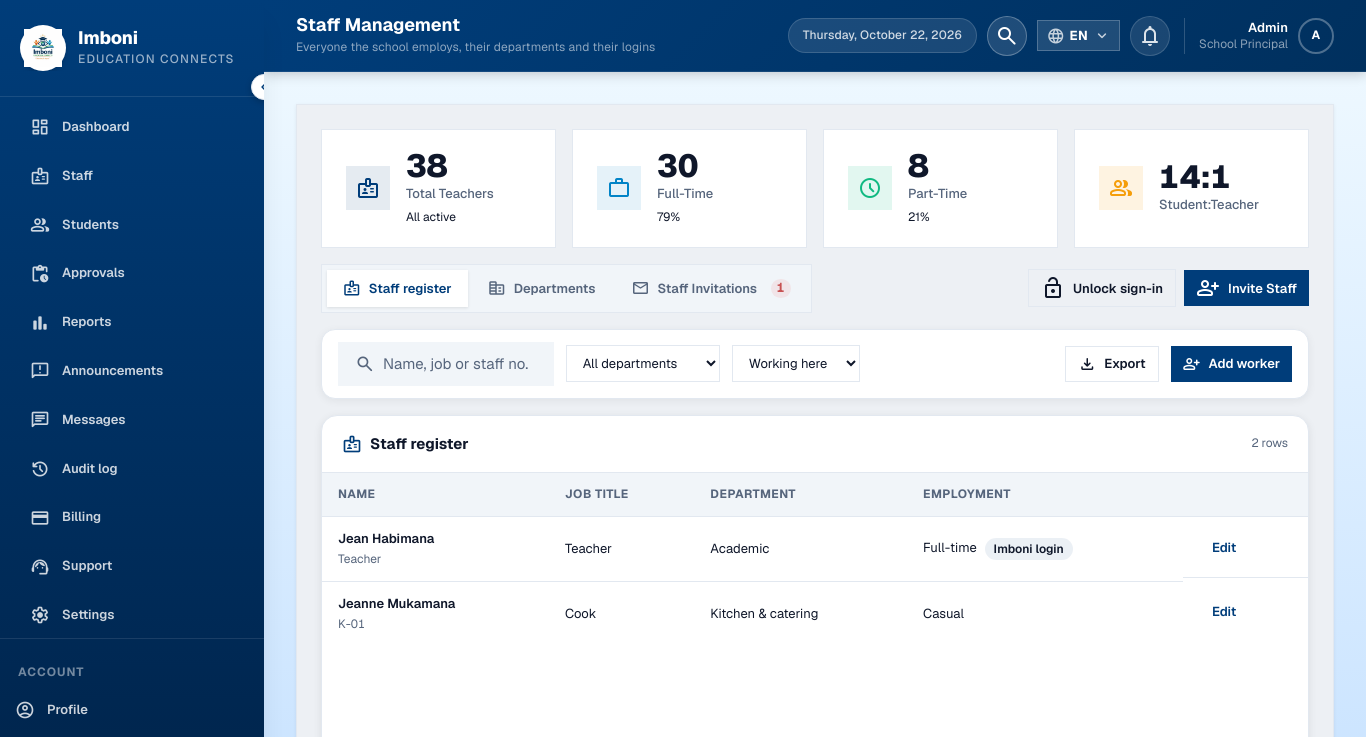
Test: AdminStaff › switches to the invitations tab and shows the pending badge count
The image size is (1366, 737).
Check: the text "Jean Habimana" is shown, box [338, 530, 434, 547]
Click the tab "Staff Invitations 1": (711,288) [615, 270, 807, 307]
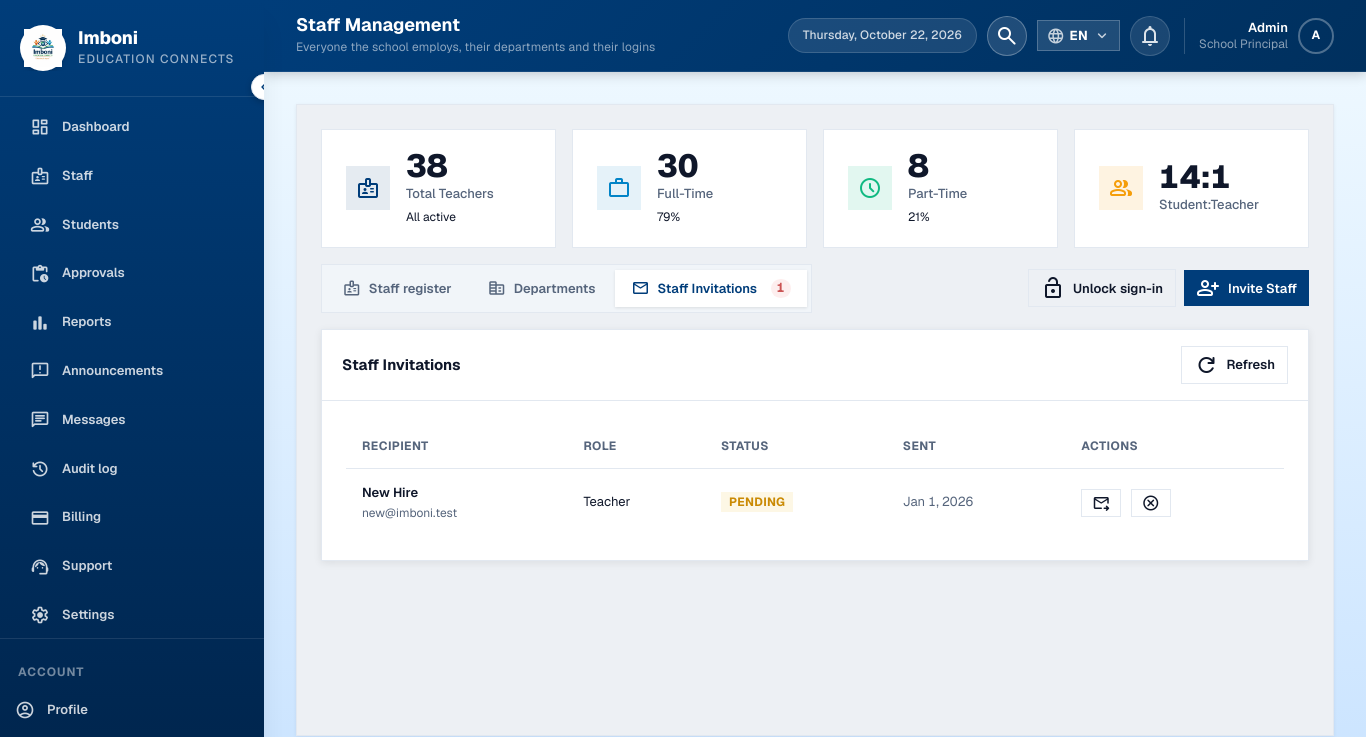
Check: the text "New Hire" is shown, box [362, 484, 418, 501]
Check: the text "Pending" is shown, box [721, 492, 793, 512]
